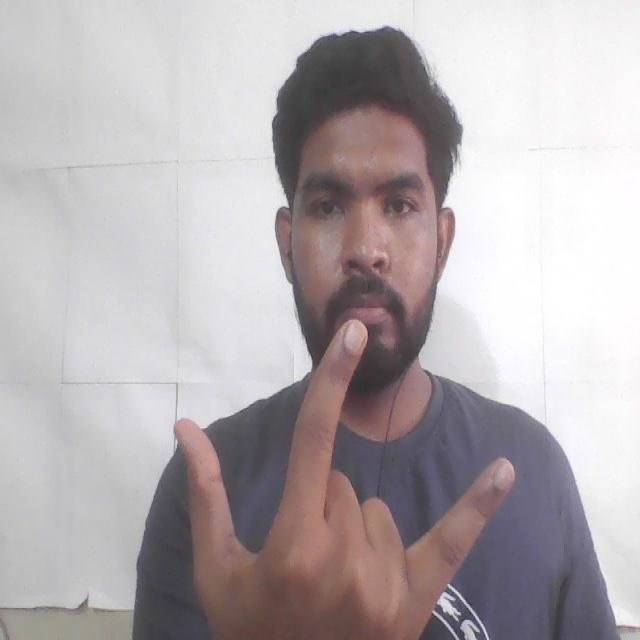ILoveYou: (137, 310, 526, 640)
